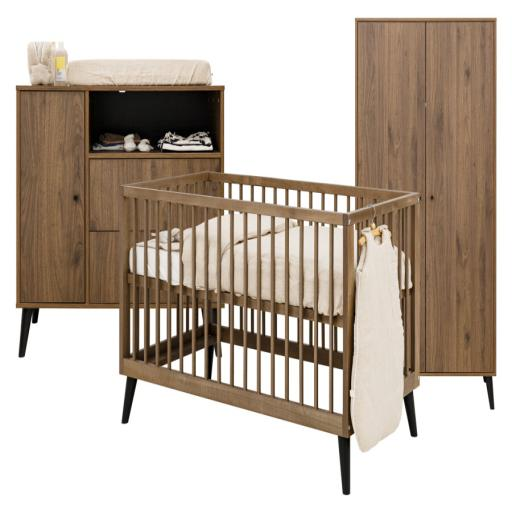crib: (122, 170, 419, 498)
